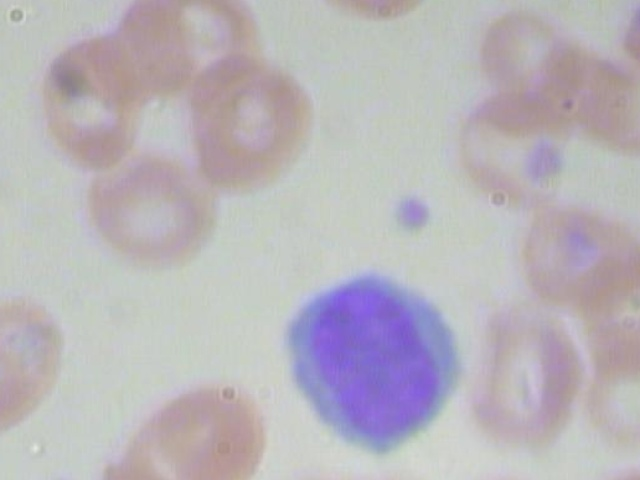Platelets: (383, 189, 438, 240), (33, 474, 86, 480)
WBC: (276, 264, 483, 467)
